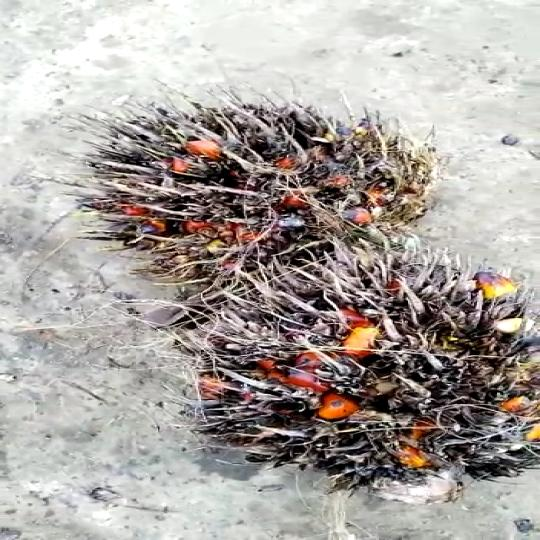terlalu masak: (163, 251, 539, 497), (52, 86, 449, 292)
